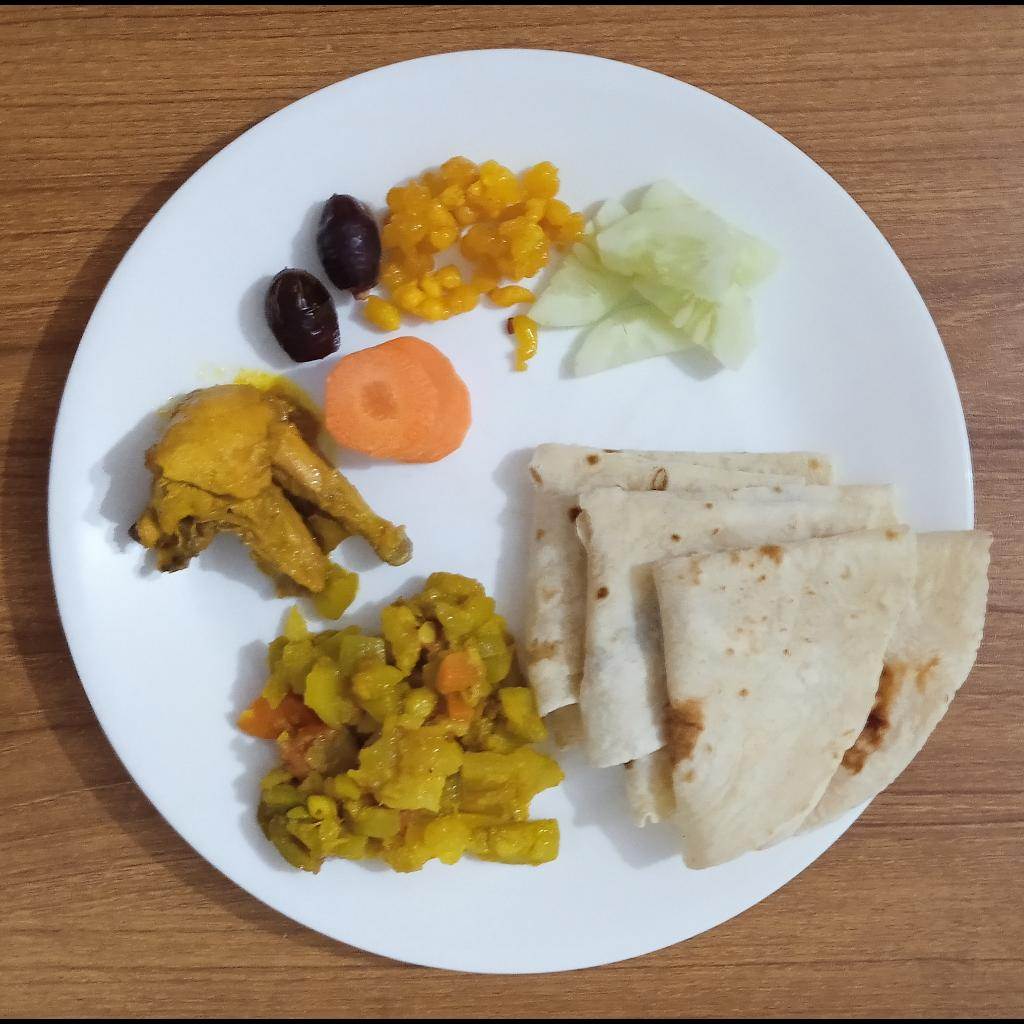burinda: (363, 157, 591, 330), (510, 315, 538, 372)
carrot: (326, 335, 473, 465)
chicken: (127, 385, 413, 601)
cucumber: (524, 178, 780, 379)
dates: (264, 269, 340, 363), (316, 195, 380, 302)
khichuri: (233, 574, 565, 872)
ruti: (523, 443, 994, 871)
